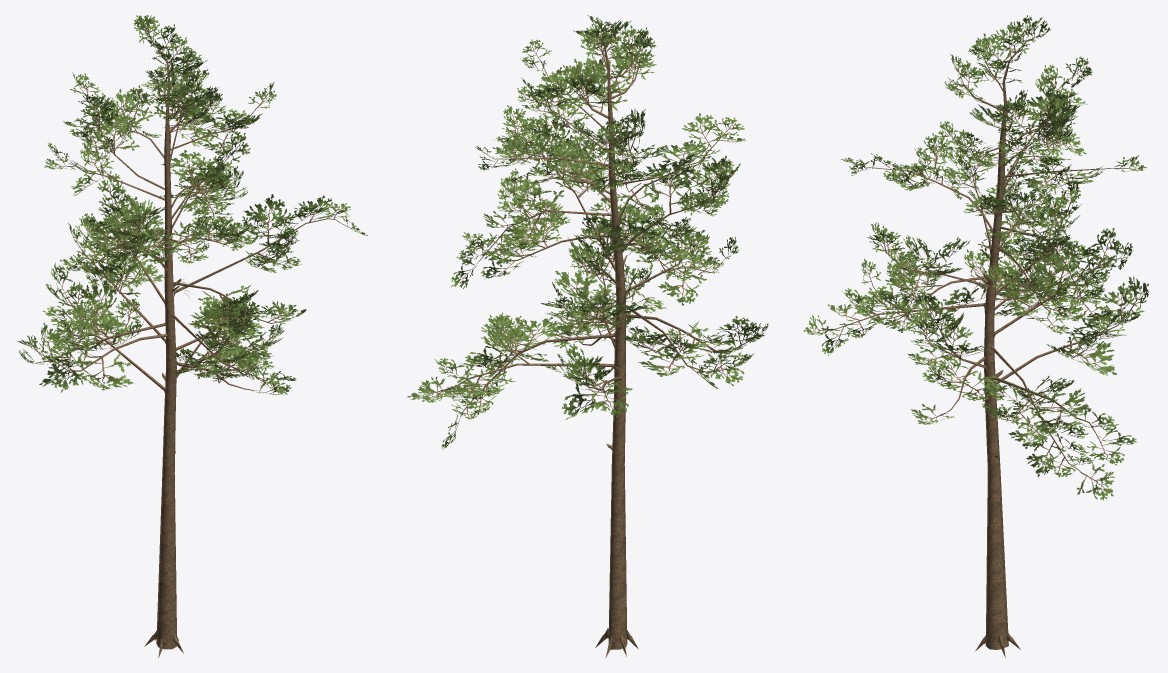
3 views of the same model, side by side, from view 1: azimuth 30°, elevation 25°; view 2: azimuth 150°, elevation 25°; view 3: azimuth 270°, elevation 25° (orthographic). The views are drawn at different scales.
Visible parts, largest first — view 1: Pine_large_2_LOD2_Bark_Mat_0; view 2: Pine_large_2_LOD2_Bark_Mat_0; view 3: Pine_large_2_LOD2_Bark_Mat_0.
Boxes of the visible parts, x1,y1,x2,y2 form: Pine_large_2_LOD2_Bark_Mat_0: [17, 15, 367, 658]; Pine_large_2_LOD2_Bark_Mat_0: [407, 15, 768, 658]; Pine_large_2_LOD2_Bark_Mat_0: [803, 15, 1149, 657].
Bounding box in the file's own units: 16.2 × 31.59 × 15.99.
